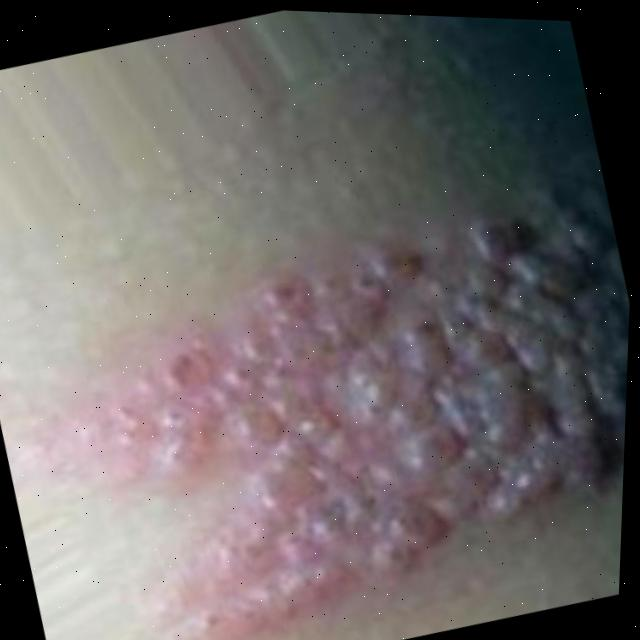Shingles: (43, 151, 634, 640)
